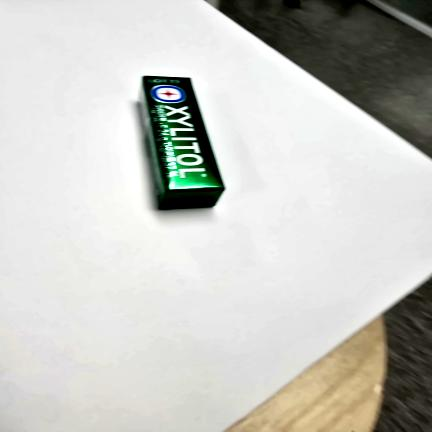gum_green: (141, 75, 224, 209)
